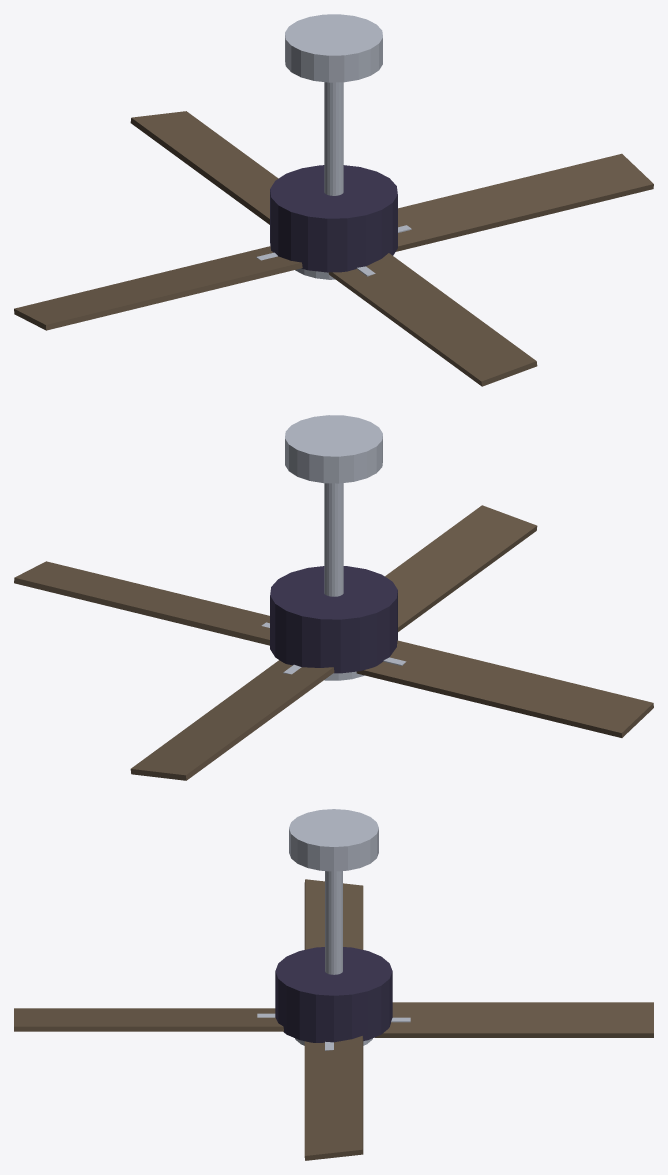
File: ventilatore_soffitto.glb
3 renders of one model, top to bottom at view 1: azimuth 30°, elevation 25°; view 2: azimuth 150°, elevation 25°; view 3: azimuth 270°, elevation 25°, orthographic. The views are drawn at different scales.
Parts seen in each view (by area): view 1: motore, pala, pala.003, pala.002, pala.001, calotta, stelo; view 2: motore, pala.002, pala.001, pala.003, pala, calotta, stelo; view 3: motore, pala.001, pala, pala.003, calotta, pala.002, stelo.
Part boxes in pixels (x1,y1,x2,y2): motore: (270, 165, 397, 272); pala: (396, 153, 653, 251); pala.003: (328, 253, 537, 386); pala.002: (14, 246, 302, 330); pala.001: (130, 111, 278, 224); calotta: (285, 14, 382, 82); stelo: (324, 82, 343, 195); motore: (270, 566, 397, 673); pala.002: (356, 640, 653, 737); pala.001: (130, 660, 334, 780); pala.003: (385, 505, 537, 631); pala: (14, 561, 269, 645); calotta: (285, 415, 382, 483); stelo: (324, 483, 343, 596); motore: (275, 947, 392, 1042); pala.001: (374, 1002, 653, 1037); pala: (304, 1036, 363, 1160); pala.003: (14, 1008, 283, 1031); calotta: (289, 809, 378, 871); pala.002: (304, 879, 363, 949); stelo: (325, 871, 342, 974).
Size of the model in its own units: 1.42 by 0.505 by 1.42.
